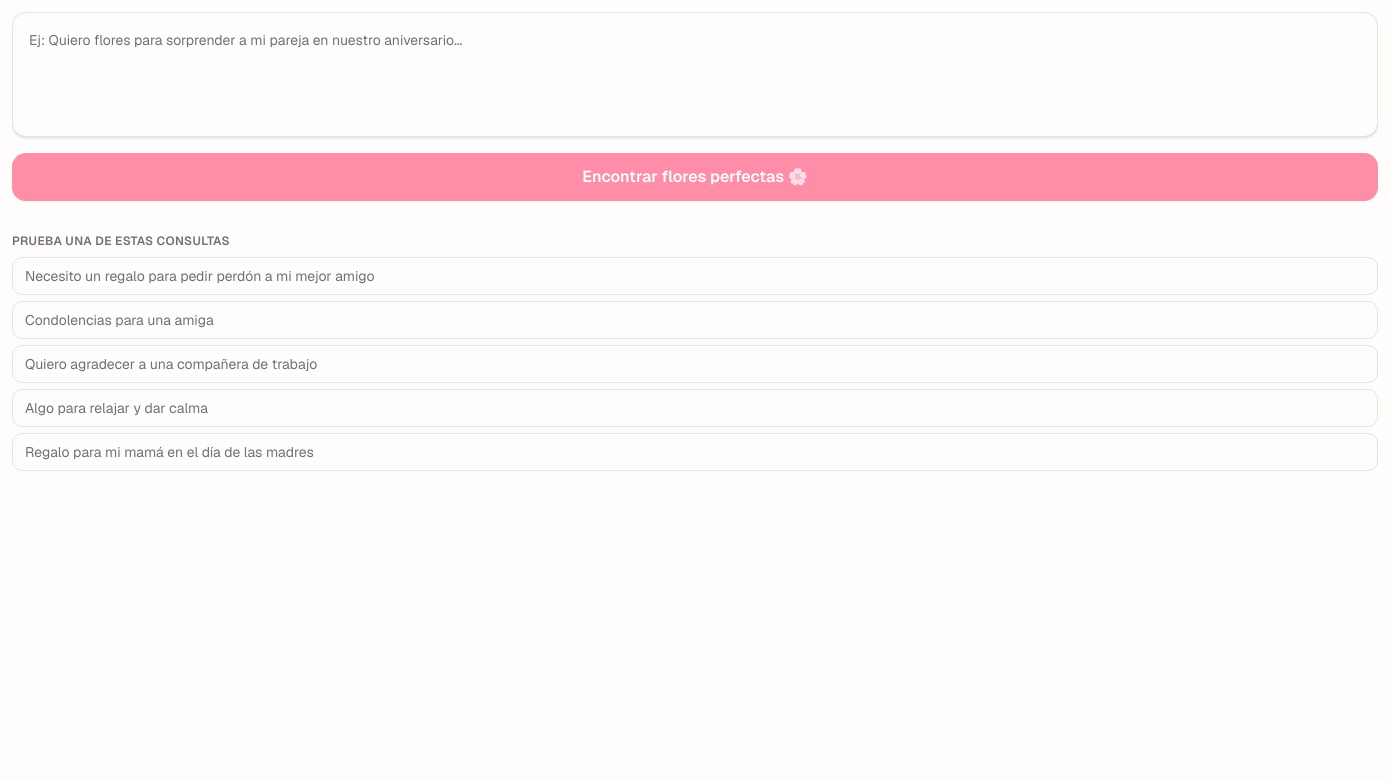
Test: RecomendadorForm › muestra aviso 'Servicio temporalmente limitado' cuando degradado=true
Replace the text in the text box with "flores" at (695, 74), box [12, 12, 1378, 137]
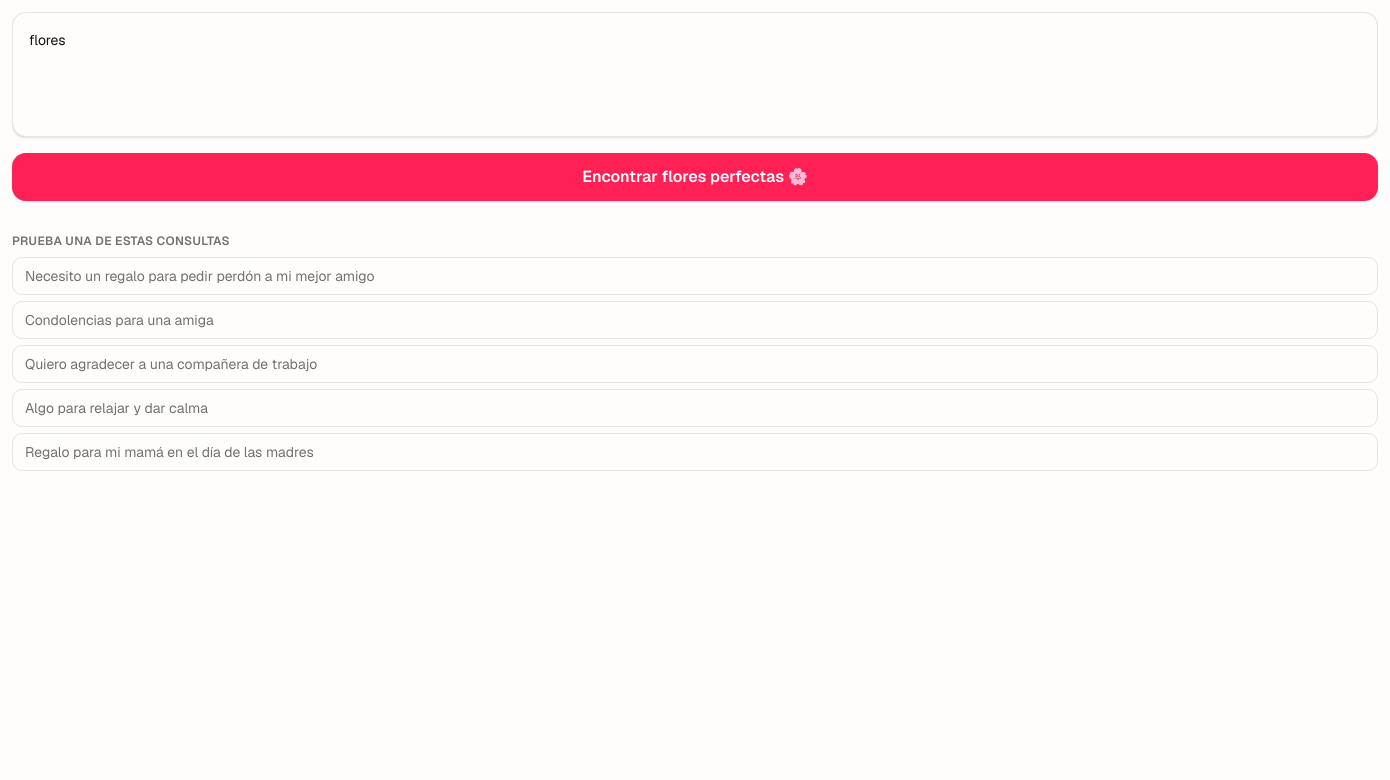
Click the button "Encontrar flores perfectas 🌸" at (695, 177), box [12, 153, 1378, 201]
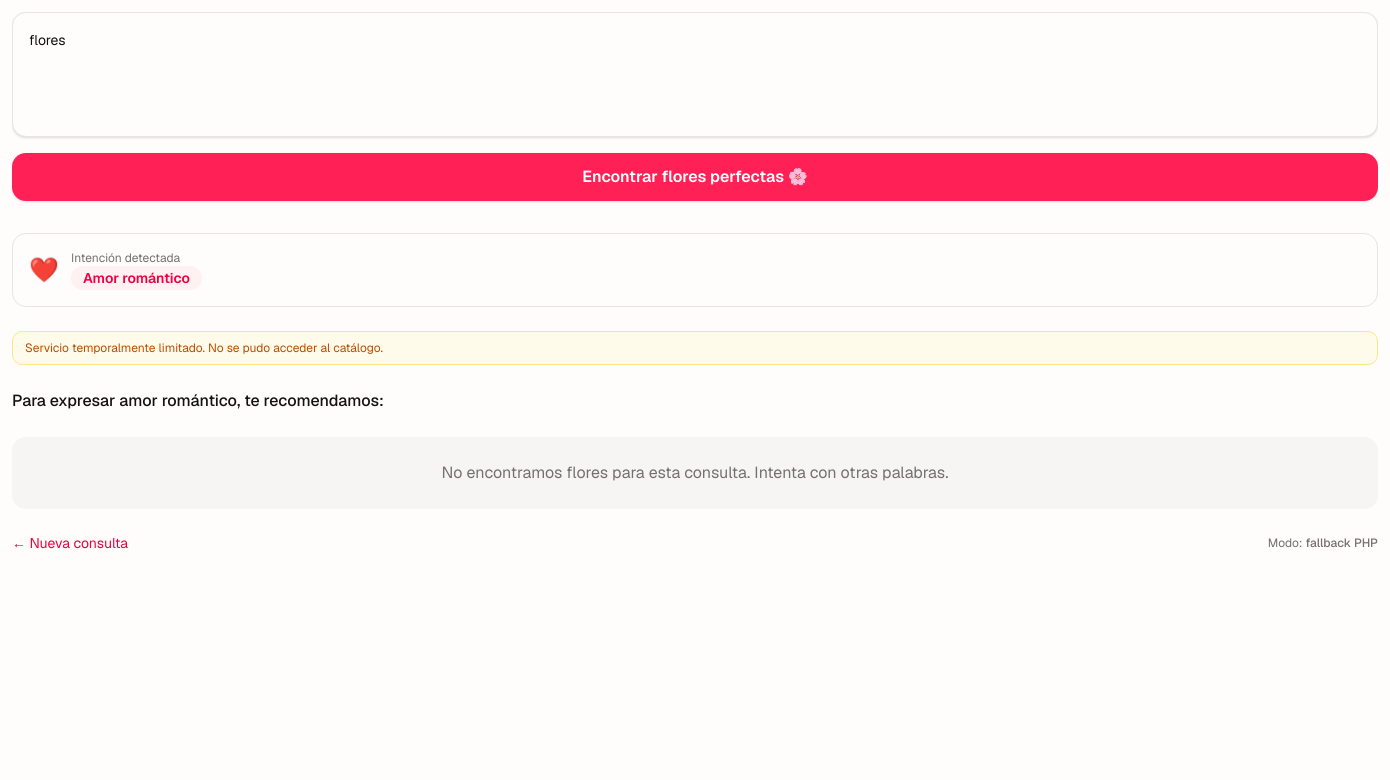
Result: the text "Servicio temporalmente limitado" is shown at [25, 340, 383, 356]
